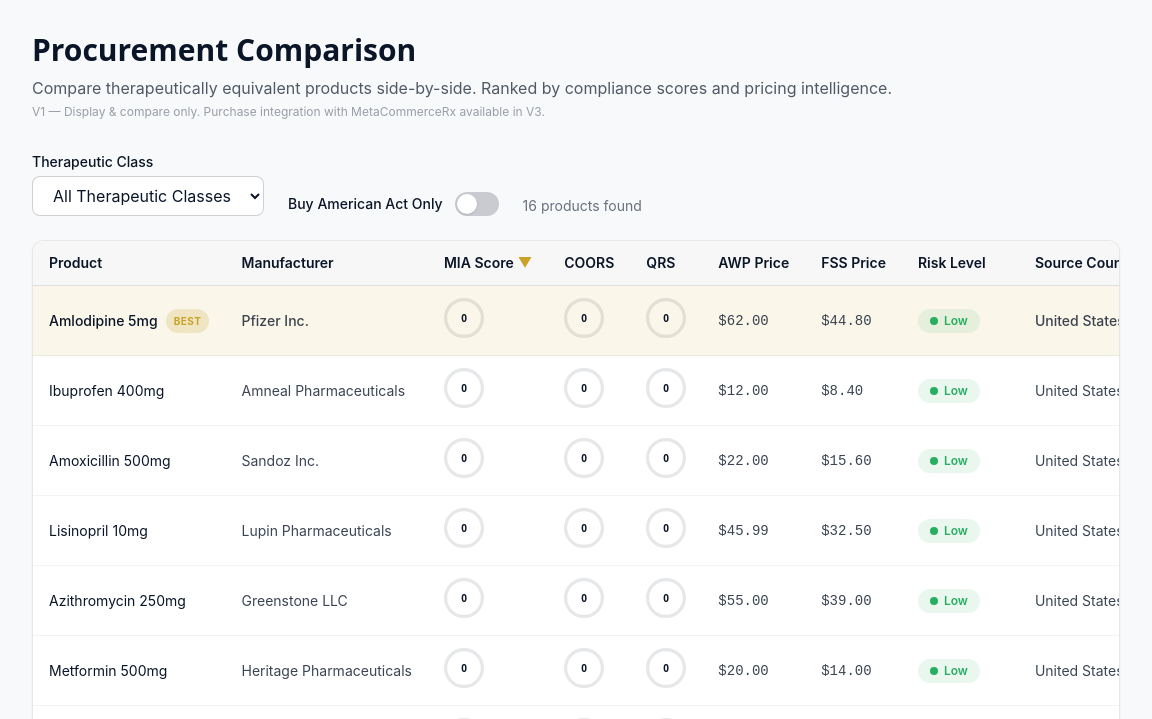
Test: Procurement › BAA filter › combines BAA filter with therapeutic class filter
Select "Cardiovascular" in the dropdown with test id "class-filter" at (148, 196), box [32, 176, 264, 216]
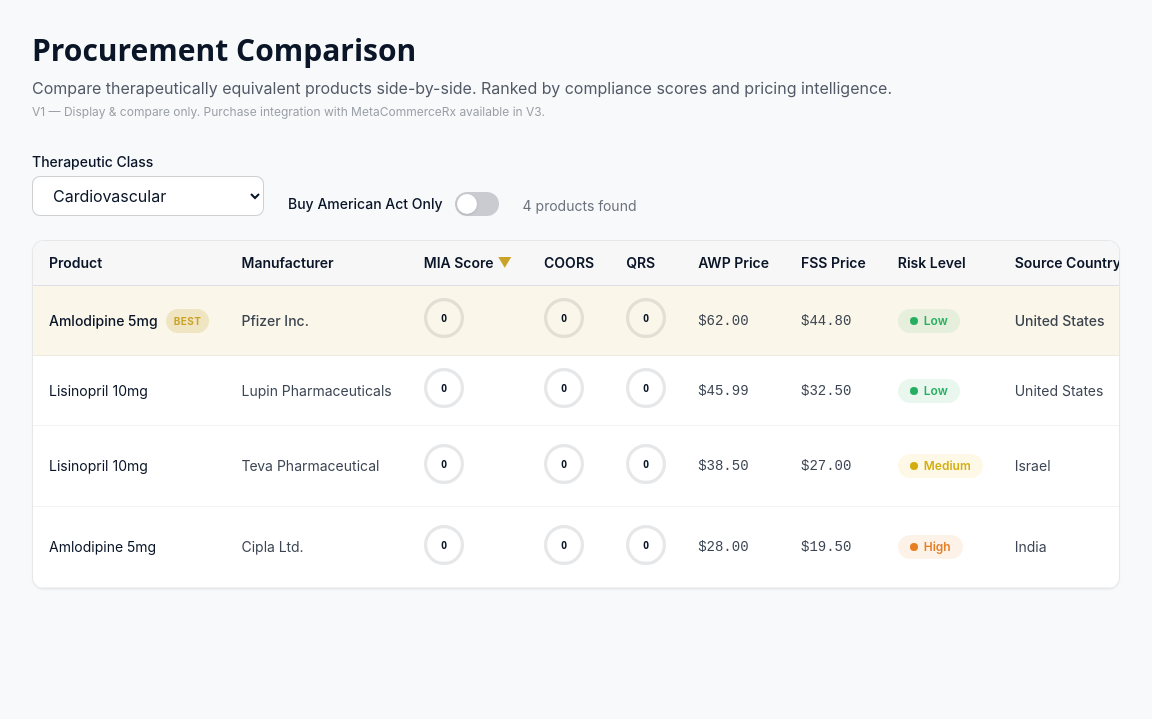
Click the switch with test id "baa-toggle" at (477, 204), box [455, 192, 499, 216]
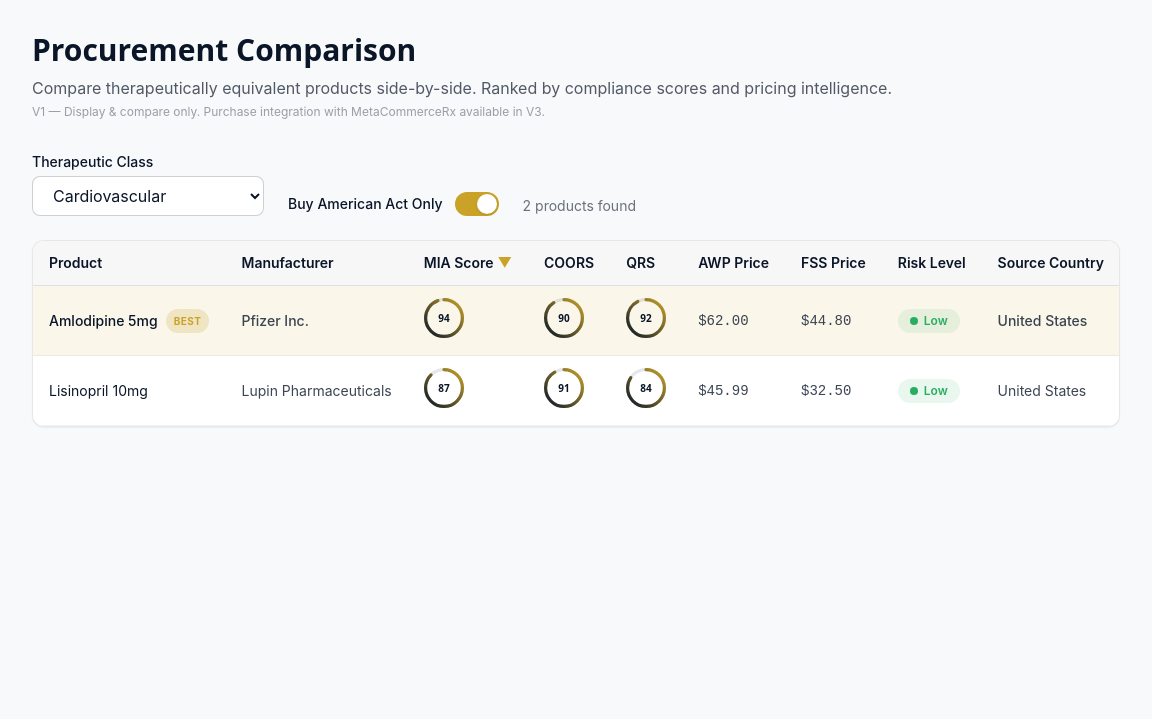
Now the text "2 products found" is shown, box [523, 196, 636, 216]
Now the row with test id "product-row-proc-2" is gone
Now the row with test id "product-row-proc-4" is gone
